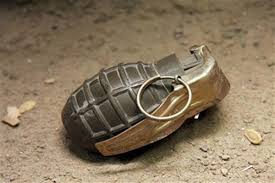bomb: (64, 47, 226, 154)
